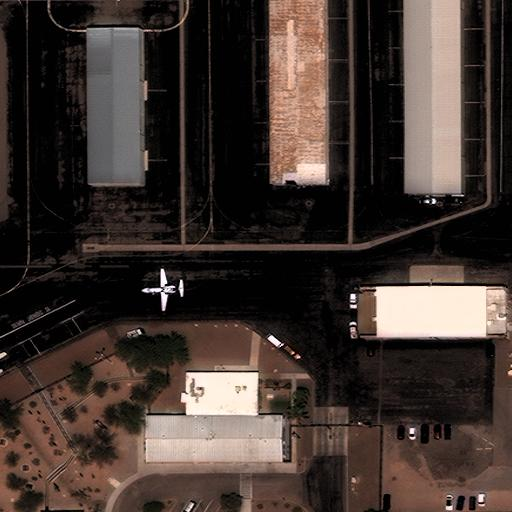Small Civil Transport: (140, 268, 184, 311)
